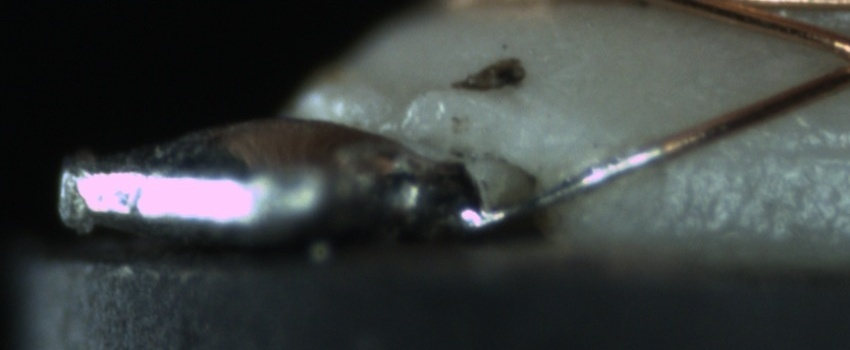DL: (698, 119, 849, 186)
TS: (469, 141, 656, 227)
TTCW: (465, 114, 722, 234)
